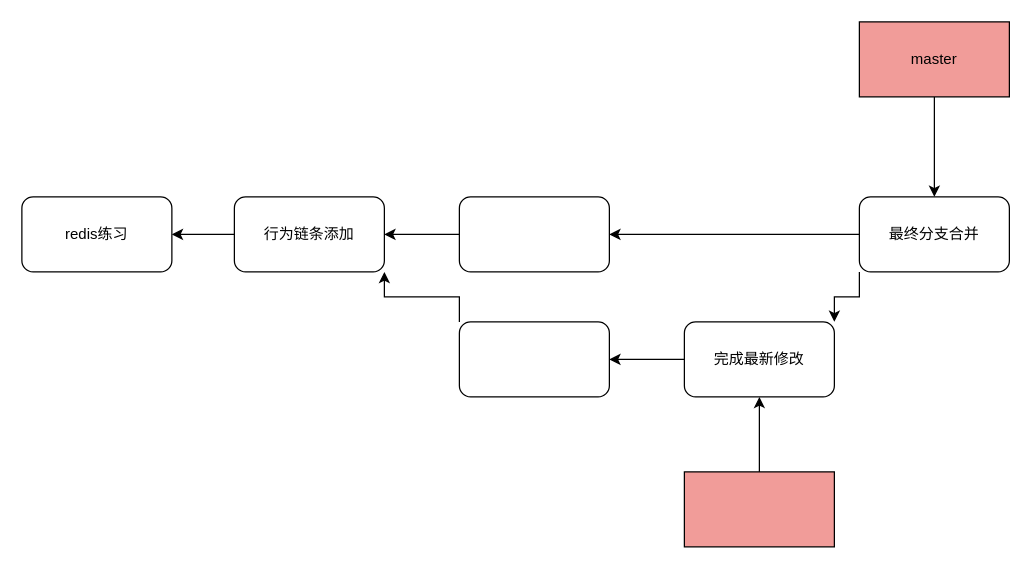
Image size: 1031x569. Some labels were removed from this diagram. Here are the shapes that lost their labels. From the top down, the centre of each, then its label:
point (533, 234): 新分支html
point (533, 359): 新增html文件
point (758, 509): iss53
